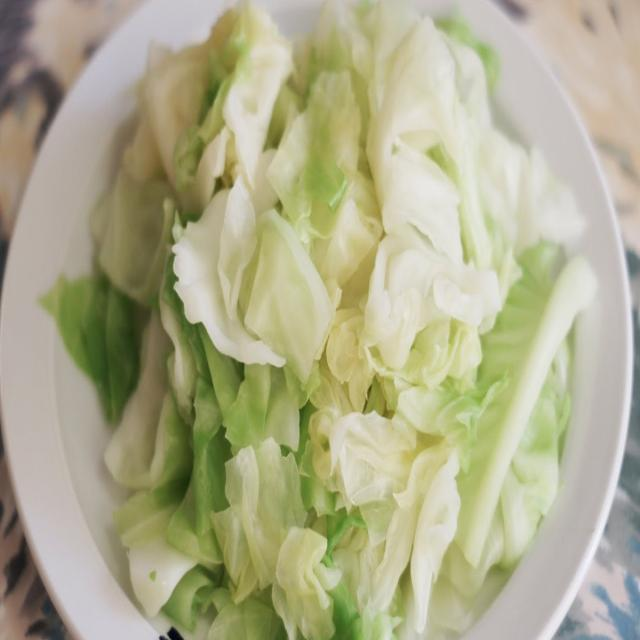rau: (45, 2, 593, 639)
